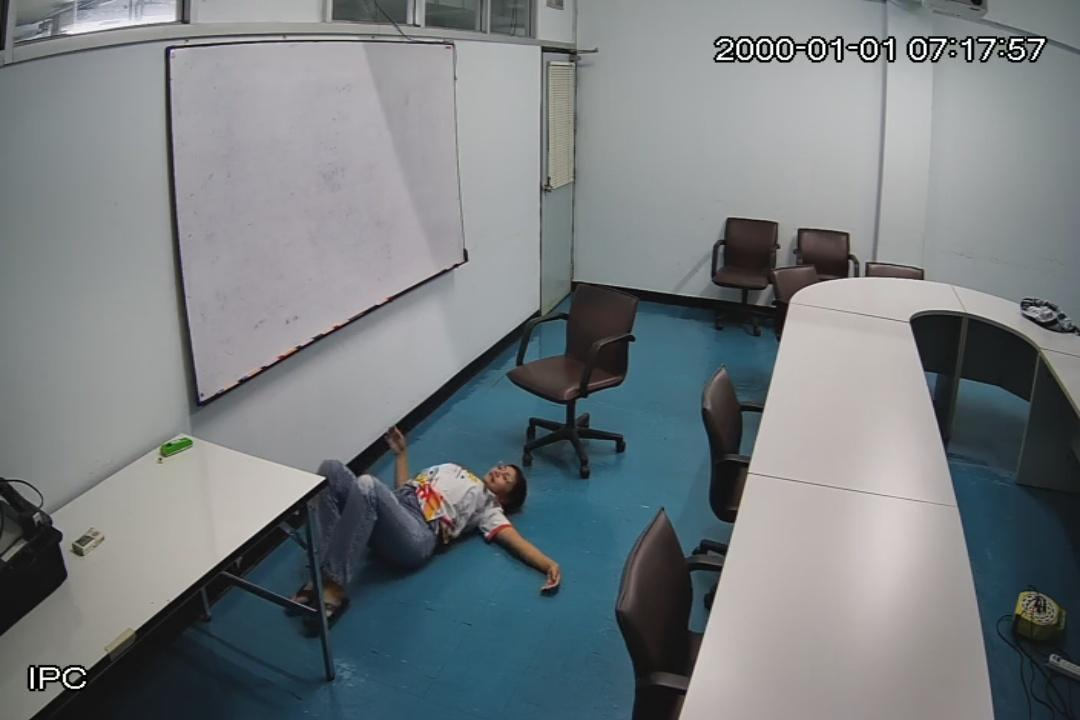fall: (284, 436, 566, 642)
